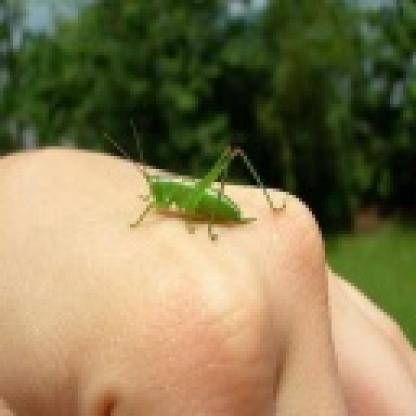grasshopper: (121, 142, 293, 250)
